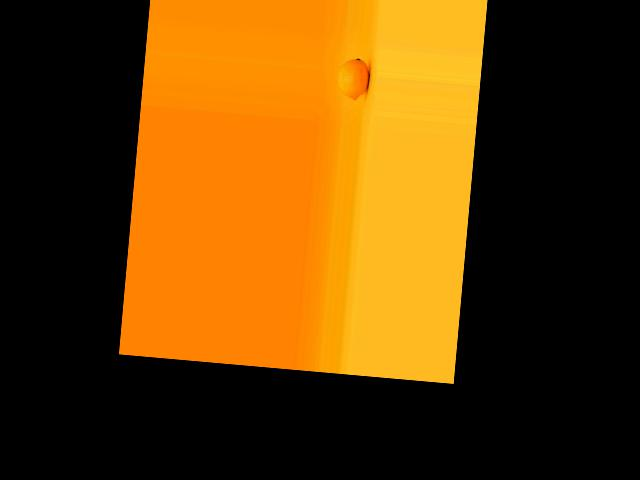lemon: (334, 52, 369, 108)
